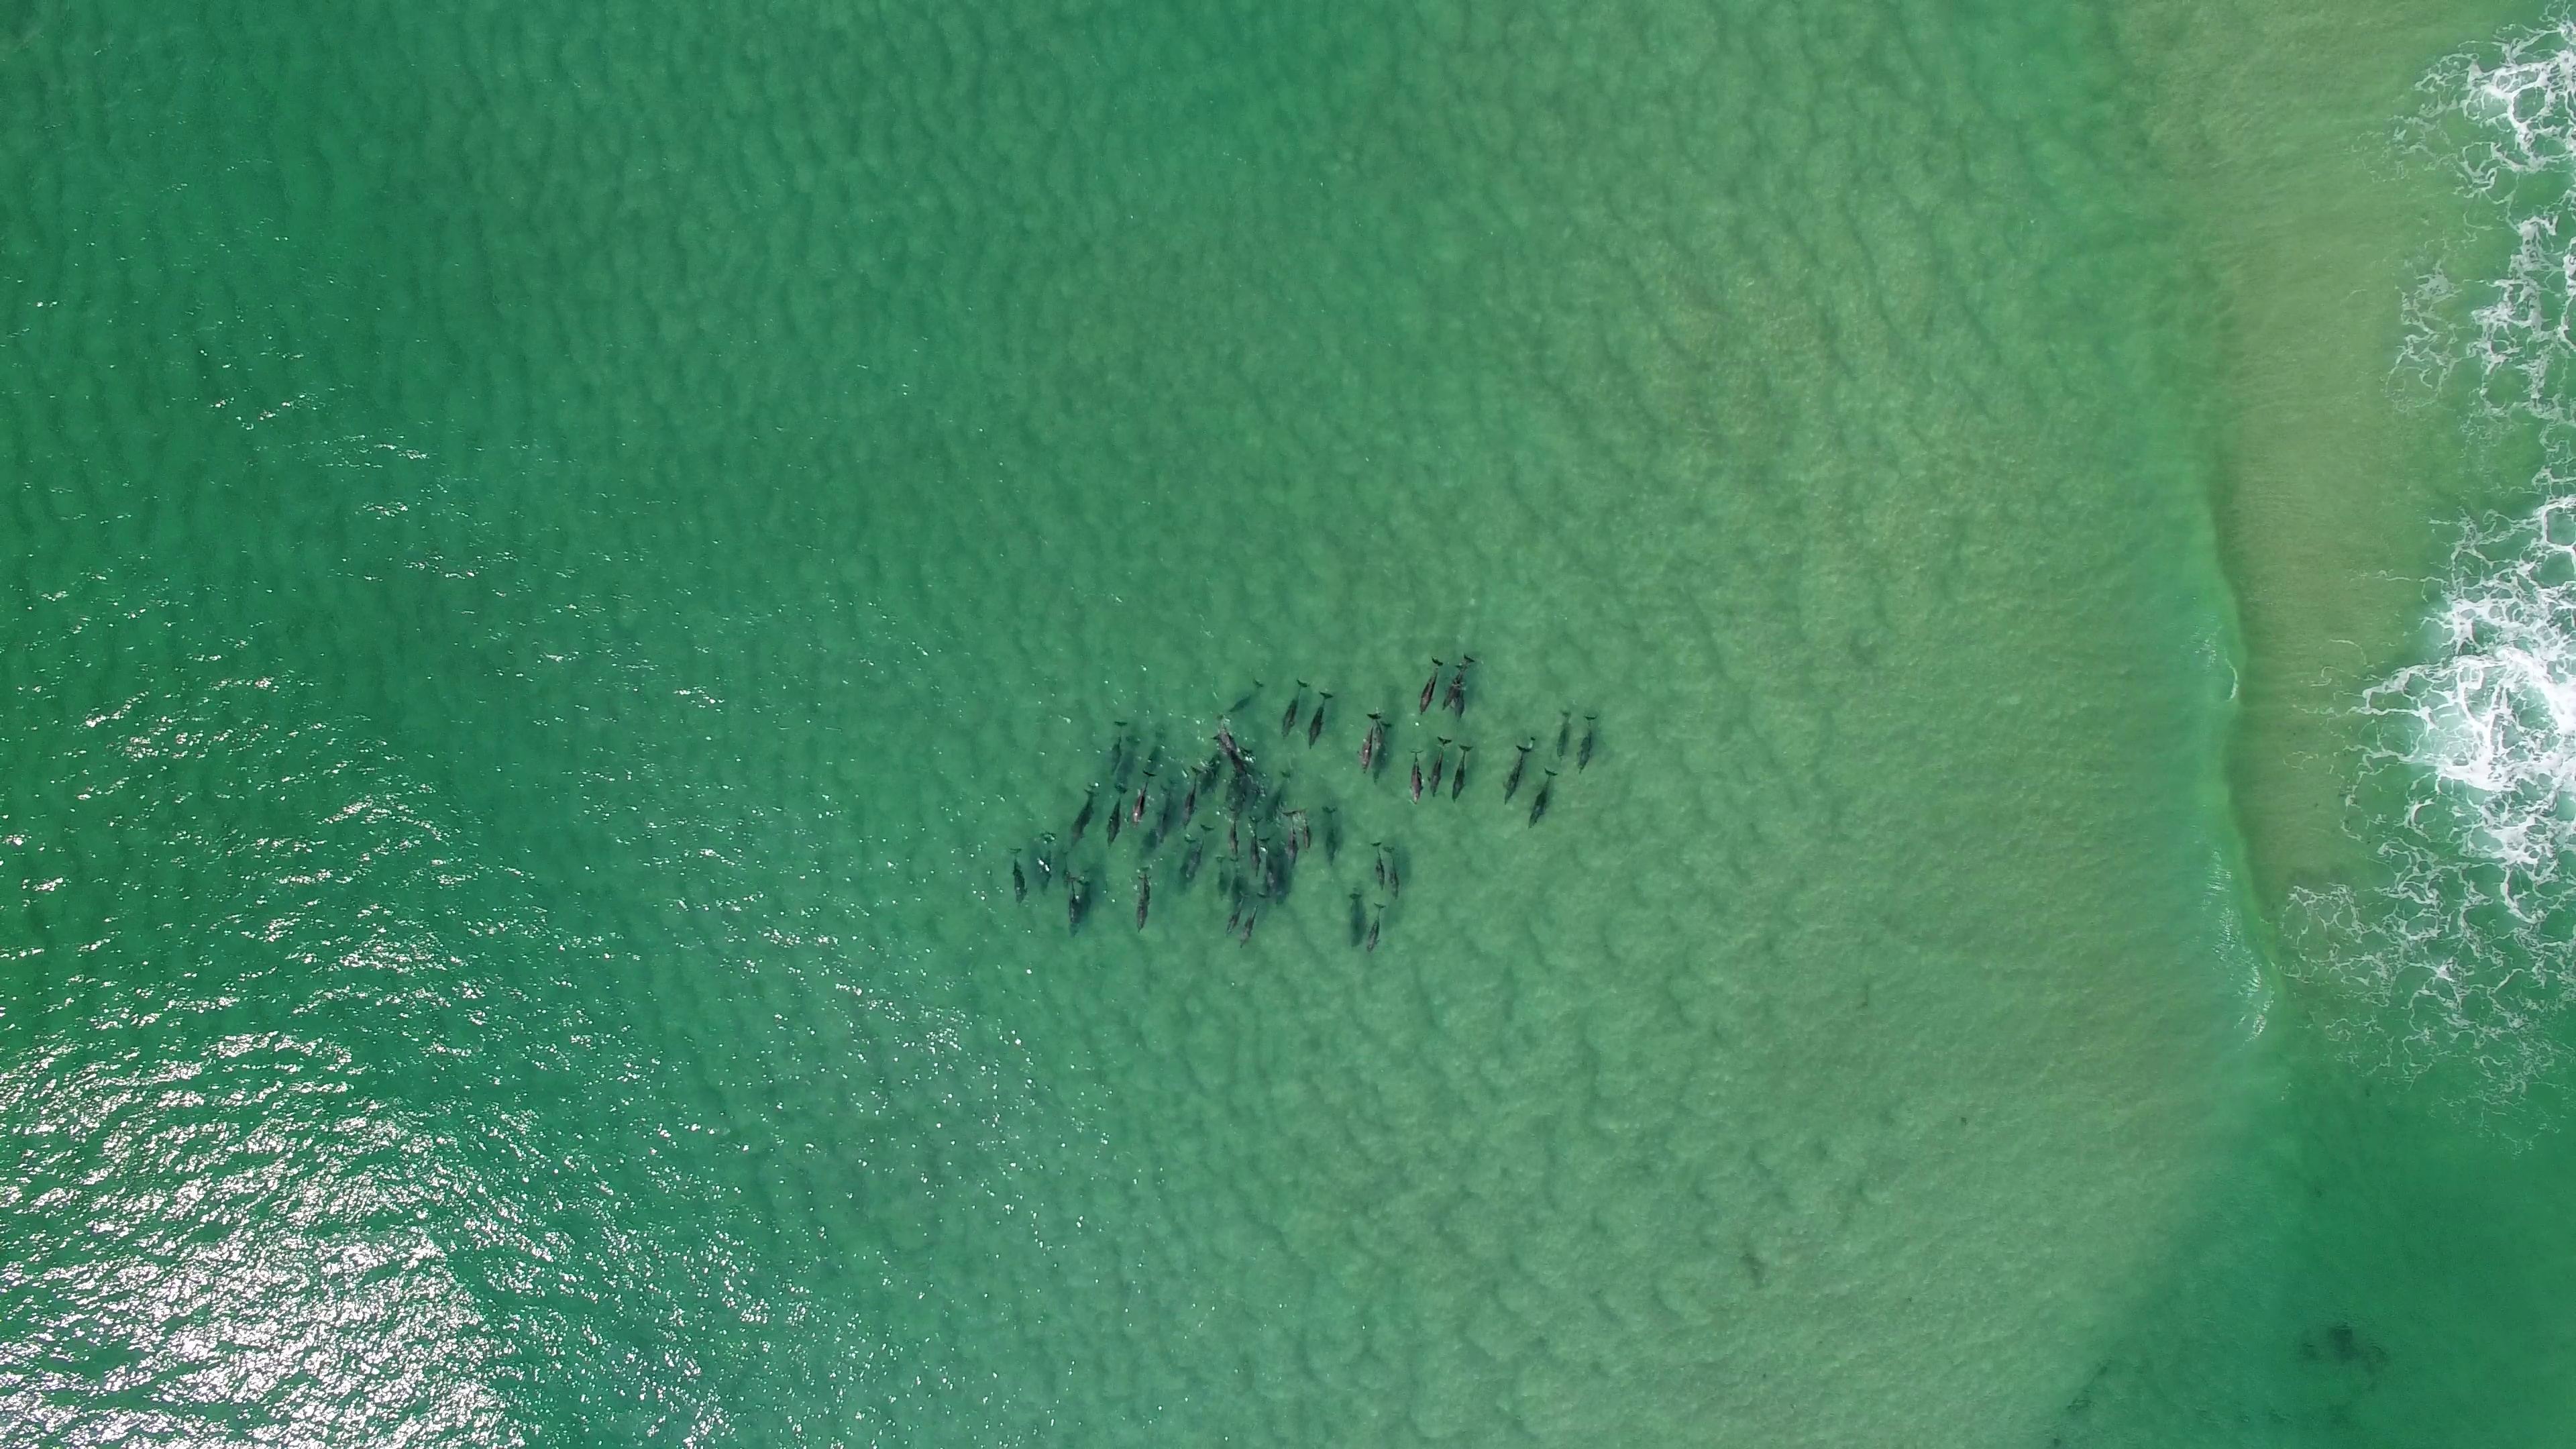dolphin: (1437, 656, 1477, 713), (1523, 770, 1557, 830), (1500, 743, 1534, 803), (1277, 678, 1309, 740), (1069, 784, 1100, 846), (1306, 688, 1336, 750), (1131, 766, 1159, 830), (1355, 711, 1380, 775), (1258, 837, 1283, 901), (1238, 893, 1267, 948), (1108, 782, 1131, 849), (1003, 846, 1028, 908), (1573, 715, 1599, 771), (1267, 768, 1293, 824), (1212, 732, 1249, 771), (1224, 885, 1251, 938), (1449, 745, 1474, 801), (1371, 720, 1392, 786), (1228, 674, 1265, 711), (1180, 766, 1201, 830), (1419, 656, 1442, 715), (1279, 809, 1300, 869), (1345, 888, 1364, 954), (1322, 803, 1341, 869), (1136, 872, 1155, 938), (1039, 830, 1060, 888), (1364, 902, 1387, 955), (1108, 717, 1127, 778), (1552, 709, 1573, 766), (1214, 713, 1240, 757), (1224, 805, 1244, 863), (1063, 874, 1081, 938), (1407, 747, 1426, 803), (1430, 736, 1447, 798), (1192, 823, 1214, 872), (1382, 847, 1401, 901), (1242, 768, 1265, 812), (1369, 840, 1387, 892), (1247, 816, 1261, 878), (1180, 833, 1196, 886), (1297, 807, 1313, 853), (1214, 855, 1228, 902), (1454, 679, 1468, 718), (1060, 849, 1069, 886)
